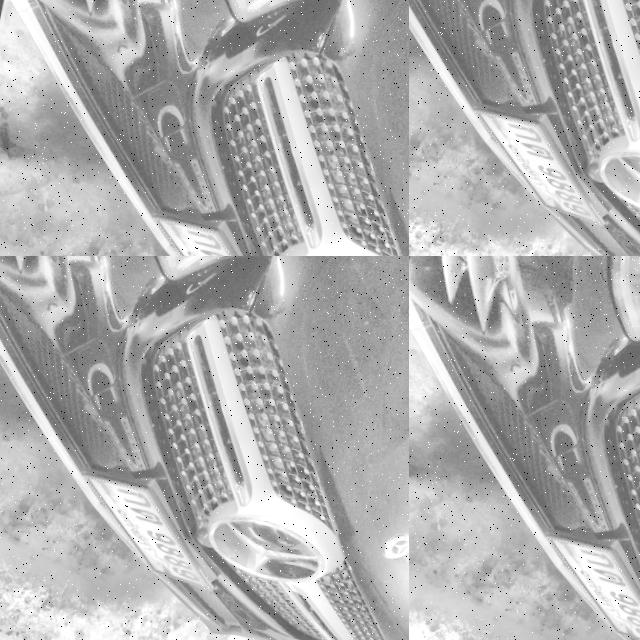license-plate: (527, 529, 640, 640)
